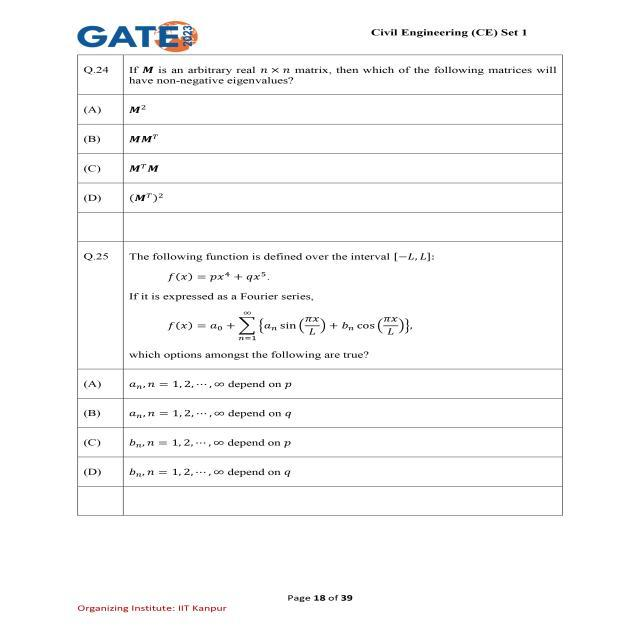Answer_Block: (77, 95, 560, 213), (79, 371, 558, 487)
Question_Answer_Block: (79, 243, 560, 487), (78, 56, 562, 213)
Question_Block: (81, 244, 555, 366), (78, 56, 558, 94)
Question_Paper_Area: (78, 56, 562, 514)
